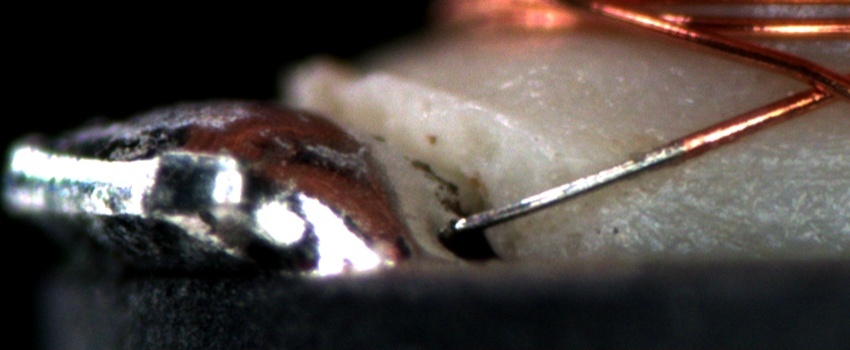CL: (790, 60, 849, 109)
DL: (684, 140, 850, 204)
TS: (453, 143, 686, 233)
